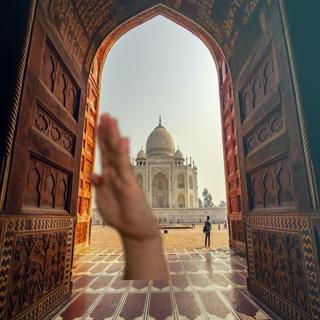RIGHT: (87, 110, 160, 241)
